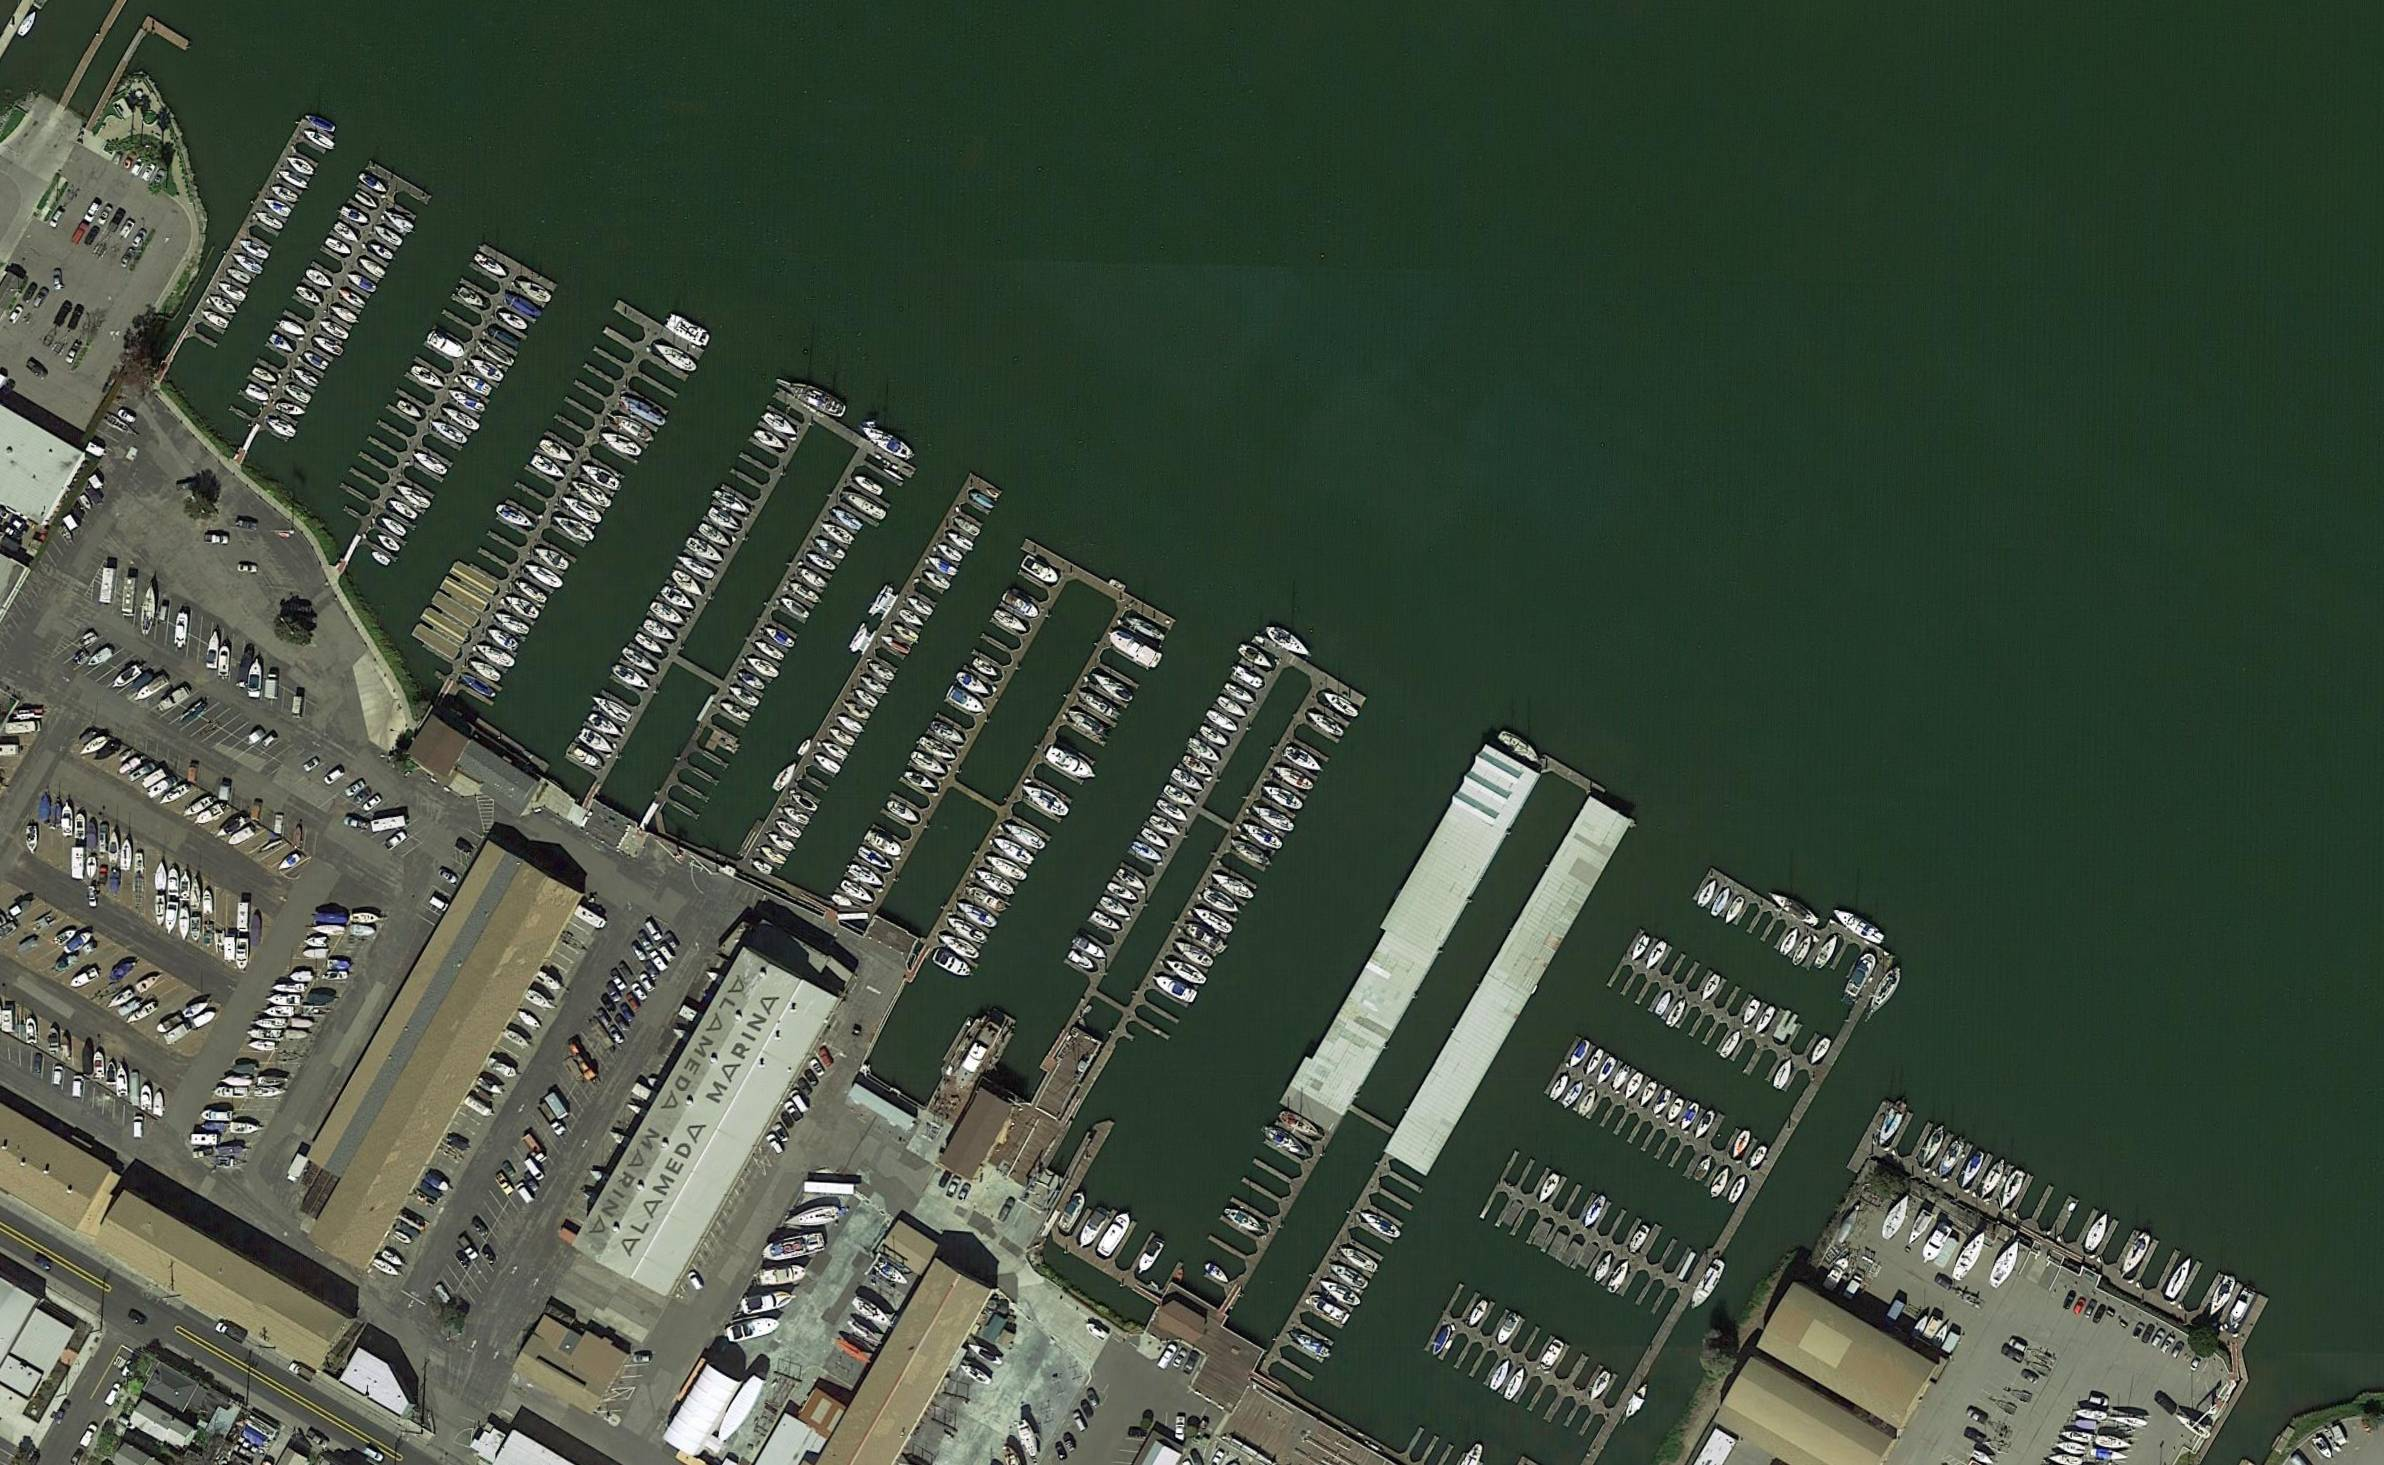harbor: (561, 385, 916, 836), (821, 537, 1177, 974), (1042, 632, 1368, 1062), (403, 297, 705, 706), (1857, 1098, 2270, 1350), (750, 473, 1003, 872), (320, 243, 557, 564), (220, 160, 433, 457), (159, 116, 338, 390), (1261, 1154, 1430, 1395), (1543, 1036, 1771, 1208), (1479, 1150, 1705, 1320), (1607, 929, 1829, 1102), (1422, 1283, 1629, 1446), (1692, 855, 1883, 996), (1199, 1109, 1332, 1279), (83, 15, 192, 155), (1374, 1411, 1490, 1465)
ship: (775, 366, 850, 421), (1860, 963, 1906, 1029), (1684, 1254, 1728, 1318), (1042, 741, 1101, 788), (859, 420, 920, 465), (1106, 627, 1164, 672), (1765, 885, 1823, 930), (1828, 904, 1888, 947), (1260, 1121, 1318, 1165), (1837, 950, 1879, 1010), (1949, 1228, 1992, 1285), (1984, 1236, 2027, 1293), (759, 1232, 828, 1267), (1262, 621, 1317, 664), (779, 1201, 849, 1234), (1873, 1093, 1913, 1150), (1874, 1191, 1917, 1244), (1018, 779, 1072, 821), (1094, 1208, 1137, 1260), (848, 1290, 897, 1334), (1176, 918, 1230, 957), (618, 390, 670, 430), (1225, 833, 1278, 871), (664, 311, 714, 351), (1915, 1221, 1955, 1270), (1063, 704, 1113, 743), (1087, 667, 1137, 706), (838, 486, 889, 524), (2116, 1232, 2154, 1283), (1159, 952, 1211, 989), (725, 1313, 787, 1344), (650, 338, 700, 376), (1249, 798, 1299, 836), (1149, 970, 1200, 1007), (1223, 1200, 1270, 1240), (1077, 686, 1125, 725), (1618, 1379, 1654, 1431), (1356, 1207, 1405, 1245), (585, 689, 635, 726), (607, 410, 658, 446), (1208, 869, 1259, 905), (1494, 729, 1543, 766), (549, 510, 597, 547), (1317, 1275, 1365, 1312), (598, 426, 647, 462), (1075, 1204, 1111, 1253), (1239, 818, 1288, 854), (740, 1287, 800, 1316), (935, 928, 982, 965), (930, 945, 977, 982), (494, 498, 541, 535), (1055, 1187, 1092, 1234), (1933, 1134, 1969, 1182), (1001, 818, 1048, 854), (569, 476, 616, 512), (1305, 1292, 1352, 1328), (983, 851, 1031, 886), (1171, 936, 1219, 971), (1915, 1124, 1950, 1172), (2161, 1254, 2196, 1302), (2205, 1273, 2240, 1321), (1303, 705, 1348, 742), (560, 491, 606, 527), (1271, 761, 1317, 797), (1260, 779, 1306, 815), (1285, 1326, 1332, 1361), (2225, 1284, 2260, 1331), (1278, 1107, 1325, 1142), (657, 578, 699, 617), (1283, 741, 1327, 778), (583, 709, 628, 745), (973, 864, 1018, 900), (945, 913, 990, 949), (830, 1334, 875, 1370), (954, 898, 1000, 933), (1326, 1258, 1372, 1293), (963, 883, 1010, 917), (1189, 904, 1236, 938), (1975, 1156, 2009, 1203), (862, 827, 906, 863), (564, 740, 609, 775), (1337, 1241, 1382, 1276), (1201, 885, 1246, 920), (991, 834, 1037, 868), (2080, 1211, 2114, 1257), (1233, 639, 1277, 674), (579, 460, 623, 495), (1996, 1167, 2028, 1215), (425, 327, 467, 363), (842, 1315, 884, 1351), (753, 1263, 811, 1289), (1020, 554, 1063, 589), (944, 683, 987, 718), (427, 415, 471, 449), (872, 1255, 913, 1291), (1001, 588, 1043, 623), (917, 733, 959, 768), (703, 502, 745, 537), (638, 614, 681, 648), (129, 672, 172, 706), (523, 560, 567, 593), (1134, 1235, 1167, 1279), (685, 534, 727, 568), (646, 598, 688, 632), (575, 725, 617, 759), (711, 487, 753, 521), (837, 876, 879, 910), (758, 408, 801, 441), (445, 384, 488, 417), (1124, 613, 1168, 645), (472, 336, 516, 368), (666, 566, 707, 600), (909, 747, 950, 781), (537, 434, 578, 468), (1321, 689, 1362, 723), (408, 361, 450, 394), (512, 275, 555, 307), (439, 402, 482, 434), (474, 640, 518, 671), (1956, 1149, 1987, 1193), (153, 684, 193, 718), (927, 717, 968, 750), (854, 843, 895, 876), (611, 662, 653, 694), (207, 813, 249, 845), (393, 481, 436, 512), (847, 860, 887, 893), (966, 1338, 1006, 1371), (409, 447, 450, 479), (676, 552, 718, 583), (620, 647, 662, 678), (464, 354, 506, 385), (1811, 931, 1842, 973), (884, 796, 923, 829), (529, 451, 569, 483), (512, 576, 552, 608), (1579, 1192, 1611, 1232), (492, 608, 533, 639), (1904, 1208, 1935, 1249), (455, 370, 497, 400), (1185, 735, 1224, 767), (954, 669, 993, 701), (122, 997, 161, 1029), (503, 592, 543, 623), (532, 544, 573, 574), (458, 671, 499, 701), (502, 291, 543, 321), (696, 519, 734, 551), (1170, 766, 1208, 798), (630, 629, 669, 660), (465, 654, 504, 685), (472, 251, 511, 282), (485, 322, 524, 353), (1786, 932, 1817, 971), (749, 425, 789, 455), (1604, 1257, 1634, 1297), (1212, 691, 1250, 722), (993, 607, 1031, 638), (1219, 679, 1258, 709), (1705, 1163, 1735, 1202), (1204, 706, 1241, 737), (1162, 782, 1199, 813), (1153, 796, 1191, 826), (902, 766, 940, 796), (1501, 1365, 1530, 1404), (1180, 751, 1215, 783), (108, 662, 144, 693), (484, 1050, 520, 1081), (484, 624, 521, 654), (1493, 1311, 1523, 1348), (770, 758, 799, 796), (180, 793, 216, 823), (138, 584, 158, 638), (1771, 1054, 1798, 1094), (829, 505, 866, 534), (958, 1360, 995, 1389), (1642, 937, 1671, 974), (1486, 1357, 1514, 1395), (104, 955, 139, 985), (102, 984, 137, 1014), (1074, 933, 1109, 963), (1230, 663, 1266, 692), (1537, 1338, 1566, 1374), (1663, 995, 1692, 1031), (1721, 892, 1750, 928), (1200, 1257, 1234, 1287), (1198, 722, 1233, 751), (264, 414, 299, 443), (1131, 838, 1166, 867), (1098, 893, 1133, 922), (1717, 1026, 1746, 1061), (752, 637, 788, 665), (746, 654, 782, 682), (821, 520, 857, 548), (382, 208, 418, 236), (495, 307, 531, 335), (1147, 812, 1183, 840), (1751, 1003, 1779, 1039), (155, 783, 192, 810), (76, 732, 113, 759), (1535, 1170, 1562, 1207), (863, 657, 897, 686), (1727, 1127, 1756, 1161), (795, 564, 830, 592), (812, 535, 847, 563), (386, 496, 421, 524), (454, 284, 489, 312), (1590, 1249, 1618, 1284), (1694, 876, 1722, 911), (787, 580, 823, 607), (1428, 1322, 1455, 1358), (1708, 885, 1735, 921), (146, 774, 183, 800), (763, 624, 797, 652), (502, 1024, 536, 1052), (153, 1009, 187, 1037), (1106, 879, 1140, 907), (727, 683, 762, 710), (214, 278, 249, 305), (524, 988, 559, 1015), (1691, 1107, 1718, 1142), (1587, 1369, 1613, 1405), (852, 471, 885, 499), (1091, 908, 1124, 936), (312, 333, 346, 360), (192, 804, 226, 831), (1807, 1034, 1834, 1068), (719, 698, 754, 724), (778, 595, 813, 621), (230, 251, 265, 277), (301, 127, 336, 153), (1691, 1151, 1717, 1186), (1677, 1099, 1703, 1134), (238, 236, 271, 263), (281, 380, 314, 407), (1115, 866, 1148, 893), (1464, 1298, 1491, 1331), (1625, 1224, 1652, 1257), (1067, 948, 1100, 975), (1560, 1078, 1587, 1111), (1744, 1141, 1771, 1174), (345, 270, 379, 296), (89, 739, 123, 765), (66, 967, 100, 993), (187, 1006, 221, 1032), (1778, 925, 1804, 959), (818, 737, 850, 764), (277, 315, 309, 342), (378, 513, 410, 540), (475, 1072, 507, 1099), (181, 994, 213, 1021), (1565, 1038, 1592, 1070), (317, 317, 350, 343), (371, 223, 404, 249), (1698, 972, 1724, 1005), (1621, 1070, 1646, 1104), (1726, 1172, 1750, 1207), (395, 396, 426, 423), (927, 553, 959, 579), (772, 816, 804, 842), (305, 267, 337, 293), (358, 171, 390, 197), (1140, 826, 1172, 852), (805, 550, 838, 575), (284, 153, 317, 178), (289, 365, 322, 390), (304, 110, 338, 134), (85, 644, 115, 671), (226, 825, 257, 851), (134, 969, 165, 995), (857, 673, 889, 698), (253, 208, 285, 233), (328, 301, 360, 326), (1547, 1071, 1572, 1103), (1575, 1086, 1600, 1118), (1635, 1078, 1660, 1110), (370, 1257, 403, 1281), (277, 168, 310, 192), (274, 398, 307, 422), (951, 514, 982, 539), (945, 529, 976, 554), (880, 632, 911, 657), (811, 751, 842, 776), (261, 196, 292, 221), (1594, 1055, 1619, 1086), (1608, 1063, 1633, 1094), (1650, 1087, 1675, 1118), (1628, 933, 1653, 964), (207, 293, 239, 317), (114, 754, 146, 778), (766, 830, 796, 855), (333, 221, 363, 246), (268, 331, 298, 356), (374, 531, 404, 556), (737, 669, 768, 693), (842, 700, 873, 724), (758, 843, 789, 867), (970, 656, 1001, 680), (357, 256, 388, 280), (905, 594, 935, 618), (850, 687, 880, 711), (827, 725, 857, 749), (781, 805, 811, 829), (295, 284, 325, 308), (301, 350, 331, 374), (514, 1007, 544, 1031), (835, 713, 866, 736), (222, 264, 253, 287), (324, 235, 355, 258), (336, 287, 367, 310), (1583, 1048, 1606, 1079), (1665, 1095, 1688, 1126), (1740, 997, 1763, 1028), (246, 659, 264, 698), (890, 621, 919, 645), (250, 365, 279, 389), (921, 568, 951, 591), (270, 183, 300, 206), (274, 852, 304, 875), (534, 971, 564, 994), (199, 309, 230, 331), (341, 206, 372, 228), (969, 489, 997, 513), (936, 541, 965, 564), (790, 792, 819, 815), (243, 382, 272, 405), (367, 241, 396, 264), (172, 612, 190, 649), (1653, 988, 1675, 1018), (353, 189, 380, 213), (898, 607, 926, 630), (205, 630, 221, 670), (377, 1247, 405, 1269), (303, 923, 347, 937), (152, 859, 169, 894), (235, 938, 250, 975), (119, 837, 134, 873), (311, 910, 348, 924), (49, 796, 65, 828), (265, 994, 304, 1007), (62, 802, 76, 838), (217, 643, 231, 678), (229, 1122, 266, 1135), (347, 924, 379, 939), (211, 1087, 250, 1099), (307, 992, 340, 1006), (350, 913, 388, 925), (107, 831, 120, 866), (272, 982, 307, 995), (167, 867, 181, 899), (301, 1005, 333, 1019), (219, 1075, 256, 1087), (153, 894, 166, 928), (195, 1123, 229, 1136), (200, 1109, 234, 1122), (151, 1090, 166, 1119), (178, 871, 192, 902), (251, 1017, 287, 1029), (57, 1034, 72, 1062), (91, 1049, 105, 1079), (37, 790, 50, 822), (228, 1062, 260, 1075), (116, 1065, 129, 1097), (179, 907, 191, 941), (259, 1007, 296, 1018), (245, 1029, 282, 1040), (24, 1015, 38, 1043), (85, 821, 98, 851), (288, 970, 318, 983), (166, 900, 177, 935), (250, 1086, 285, 1097), (46, 1027, 60, 1054), (370, 551, 392, 568), (190, 877, 201, 911), (256, 1075, 290, 1086), (189, 917, 202, 945), (289, 1017, 317, 1030), (245, 1041, 278, 1052), (796, 737, 813, 758), (283, 1029, 312, 1041), (302, 936, 330, 948), (141, 1083, 153, 1111), (74, 811, 85, 841), (99, 824, 110, 854), (202, 924, 214, 951), (201, 888, 213, 914), (303, 949, 330, 960), (105, 1061, 117, 1085)
